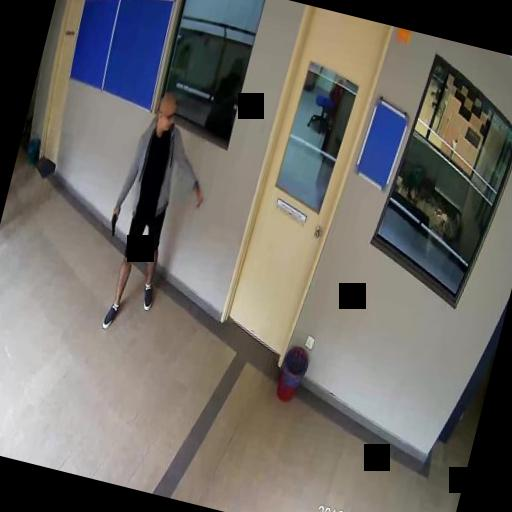Handgun: (106, 204, 121, 235)
